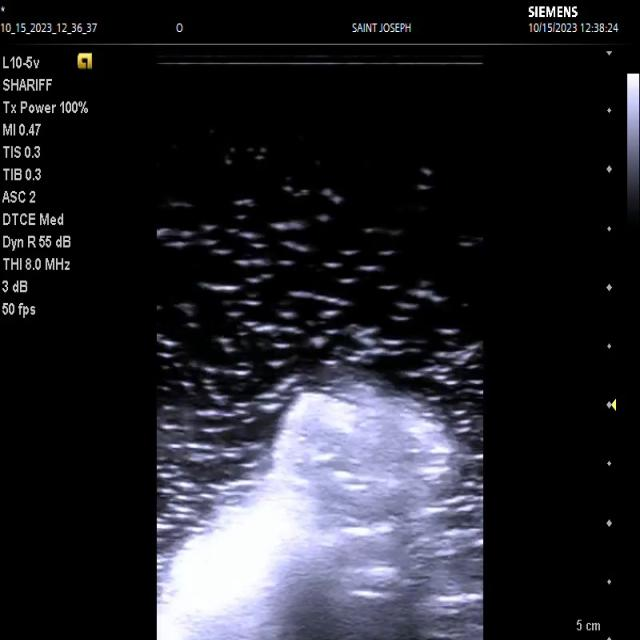tissue: (158, 381, 482, 640)
